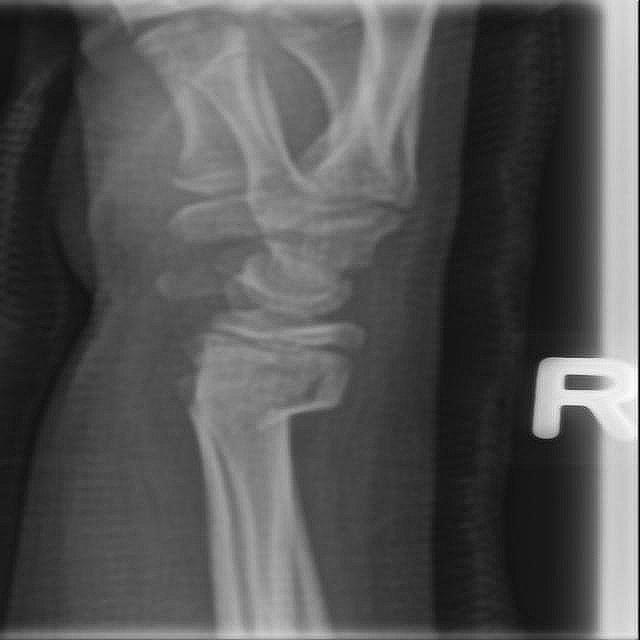bone: (175, 371, 352, 432)
